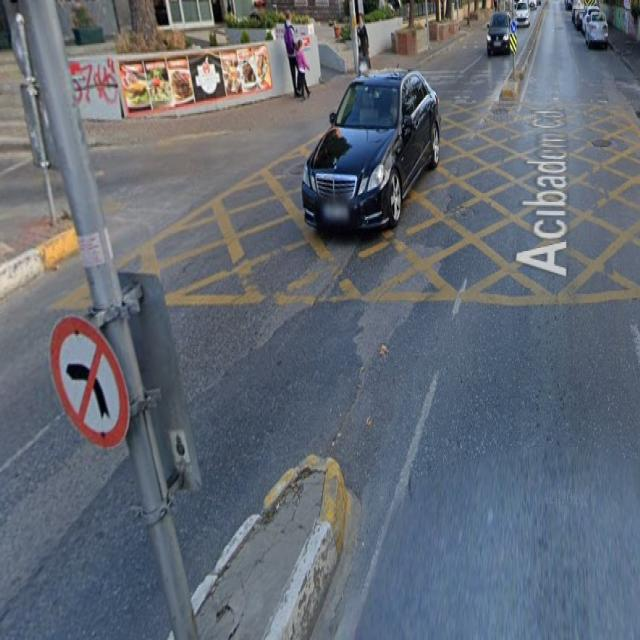soladonulmez: (49, 316, 131, 452)
